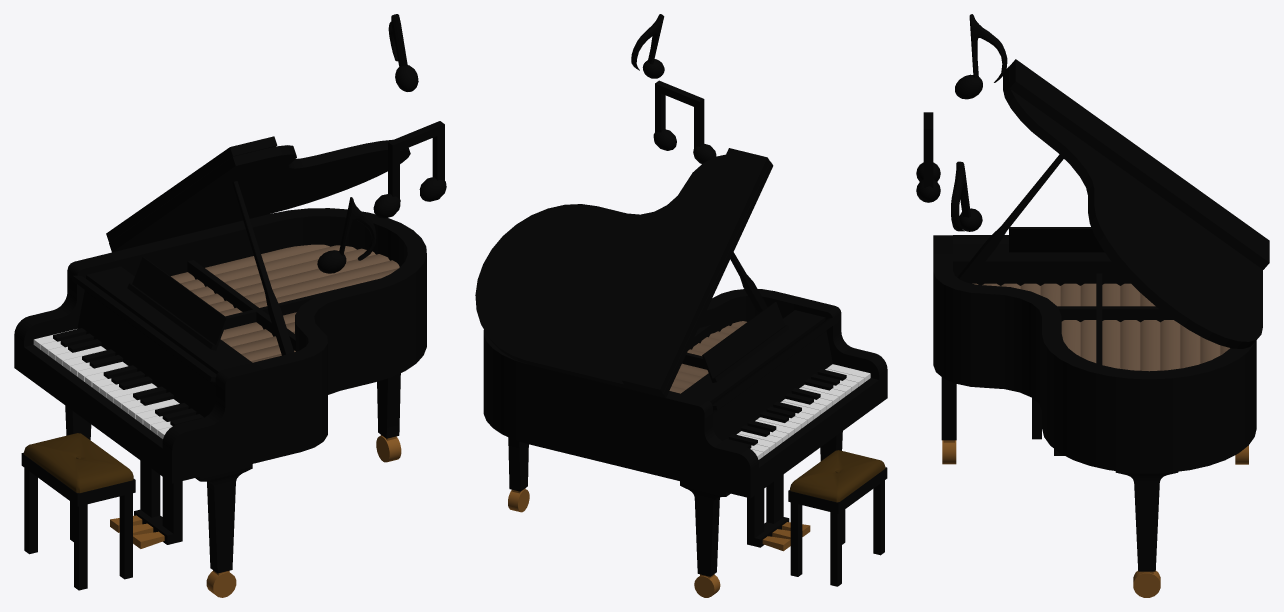
Rendered from AreaSelect_piano.fbx.
The picture shows the model from 3 angles, left to right: view 1: azimuth 30°, elevation 25°; view 2: azimuth 150°, elevation 25°; view 3: azimuth 270°, elevation 25°; orthographic projection. The views are drawn at different scales.
Parts seen in each view (by area): view 1: piano; view 2: piano; view 3: piano.
Boxes of the visible parts, left/top/right/bottom form: piano: left=14, top=14, right=446, bottom=597; piano: left=475, top=14, right=887, bottom=597; piano: left=916, top=14, right=1269, bottom=597.
Bounding box in the file's own units: 47.8 × 61.3 × 36.28.
